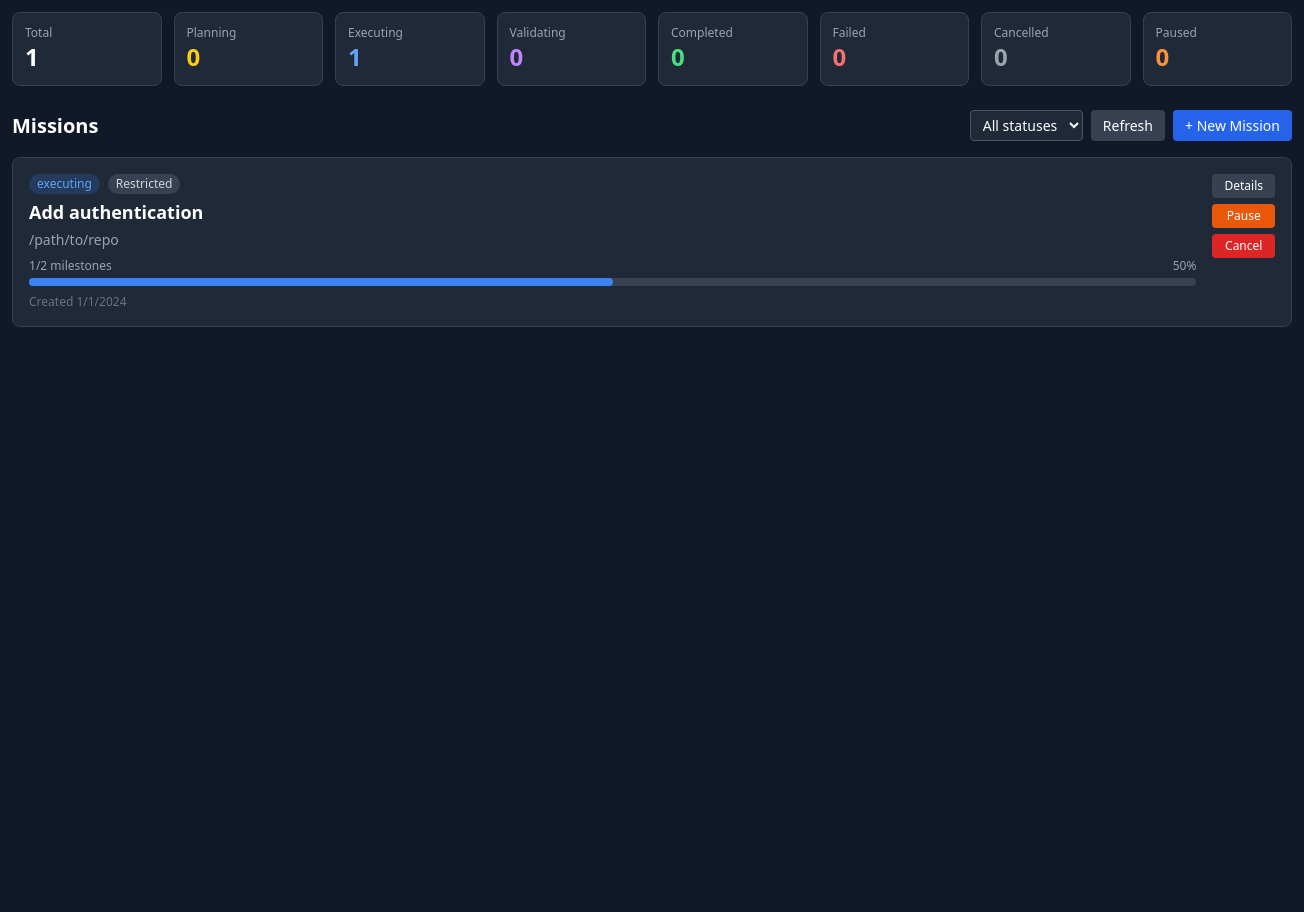
Scenario: Missions component › mission detail view › shows milestone progress
Click the button "Details" at (1244, 186), box x1=1212 y1=174 x2=1275 y2=198
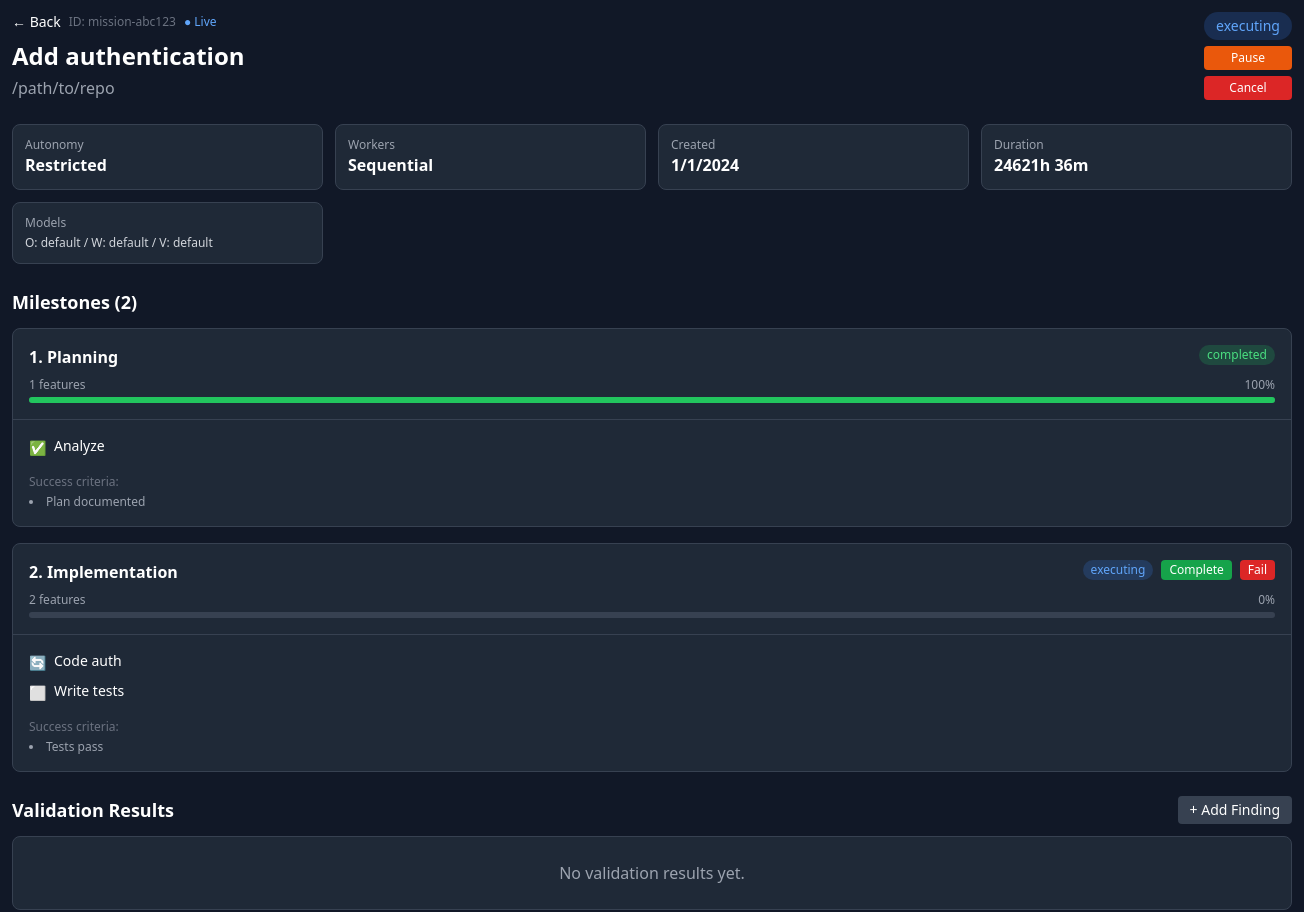
Expected: the heading "1. Planning" is shown, x1=29 y1=345 x2=118 y2=369
Expected: the heading "2. Implementation" is shown, x1=29 y1=560 x2=178 y2=584
